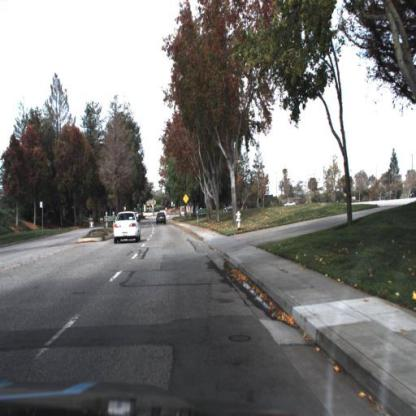car: (112, 210, 142, 248), (156, 211, 169, 225), (284, 198, 298, 210)
